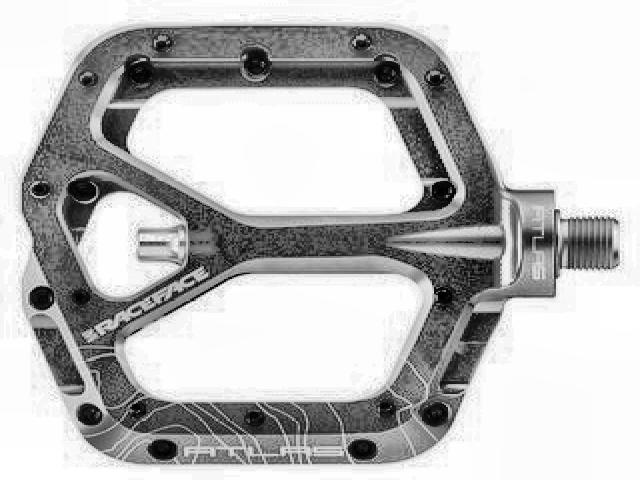pedal: (19, 23, 621, 470)
